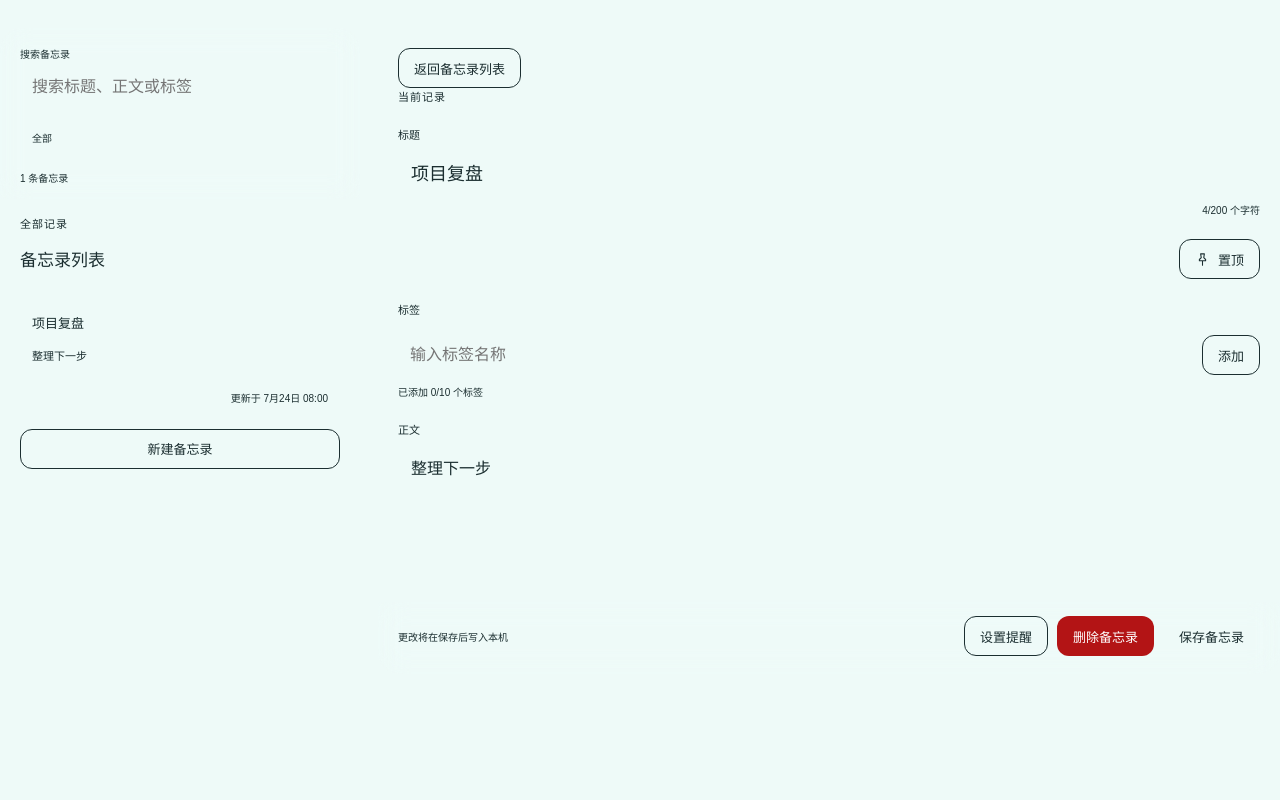
Test: MemoWorkspace › rolls back an optimistic pin when the authoritative save fails
Click the button "置顶": (1220, 259) [1179,239,1260,279]
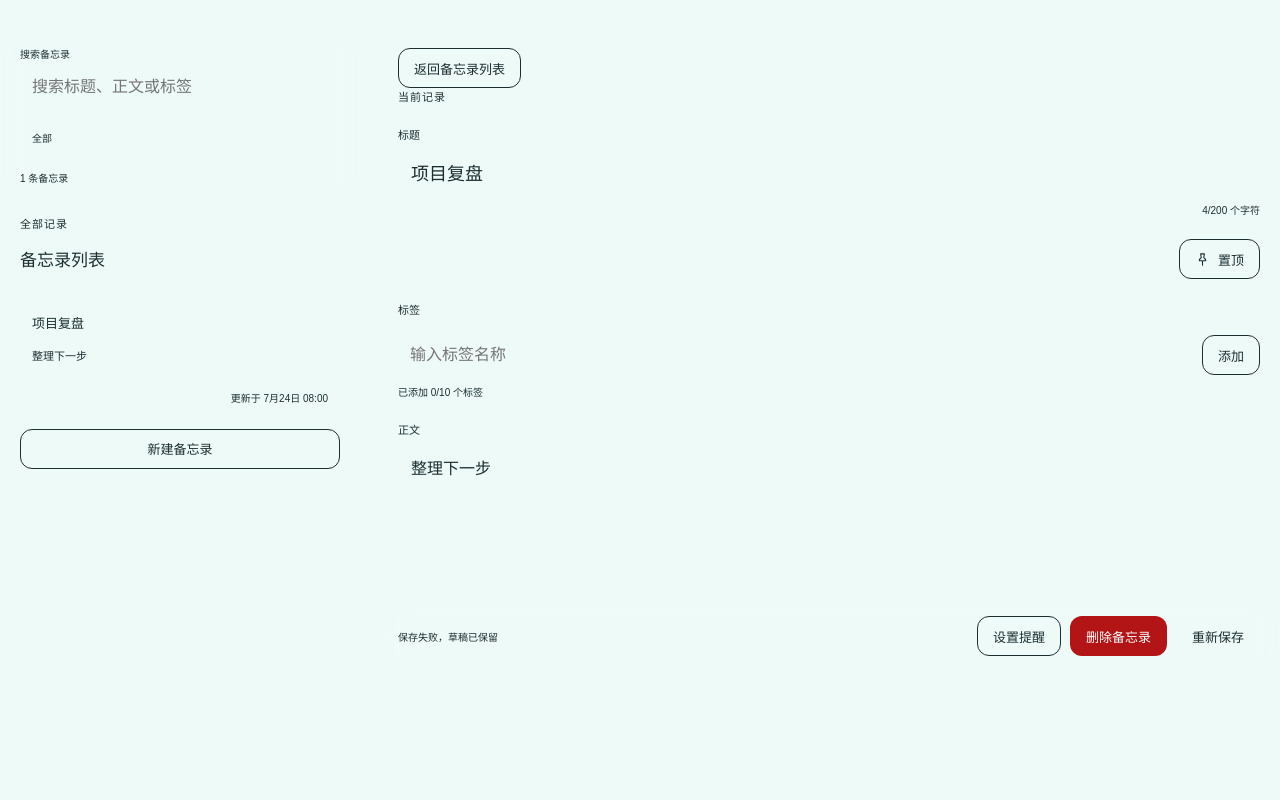
expect the button "重新保存" is shown: met, box [1176,616,1260,656]
